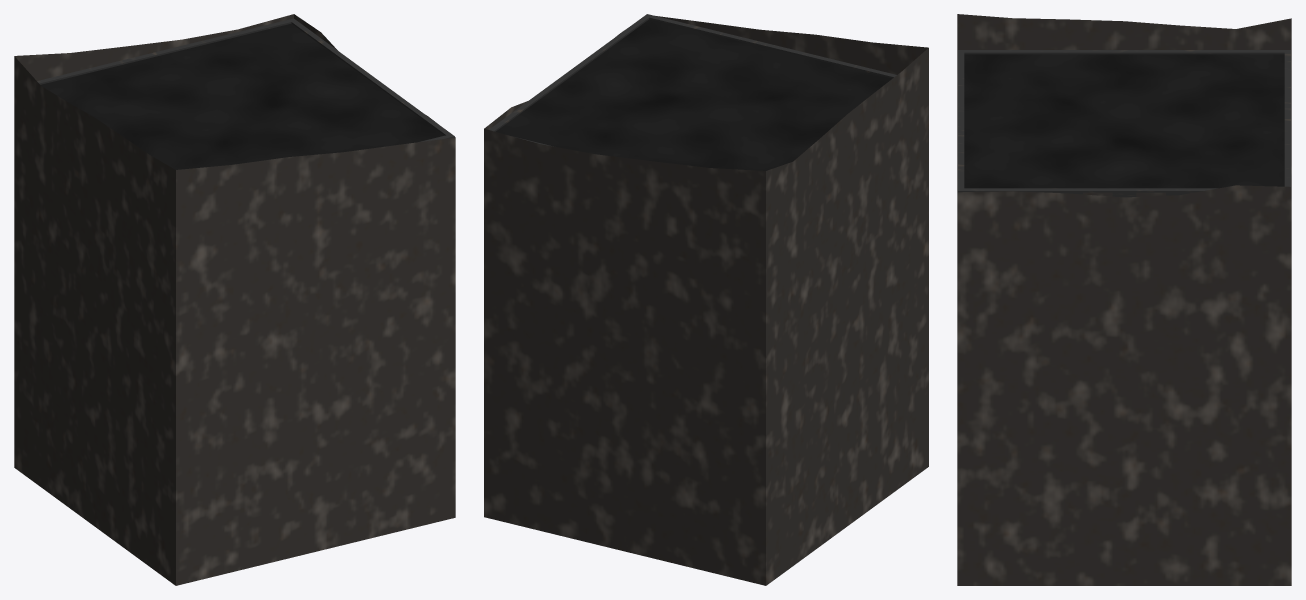
The model's file is SpawnComponents.glb.
3 views of the same model, side by side, from view 1: azimuth 30°, elevation 25°; view 2: azimuth 150°, elevation 25°; view 3: azimuth 270°, elevation 25° (orthographic). The views are drawn at different scales.
Parts seen in each view (by area): view 1: Cube.003, Cube.005, Cube.004; view 2: Cube.003, Cube.005, Cube.004; view 3: Cube.003, Cube.005, Cube.004.
Part boxes in pixels (left/top/right/bottom): Cube.003: left=14, top=14, right=455, bottom=585; Cube.005: left=40, top=23, right=444, bottom=169; Cube.004: left=37, top=18, right=454, bottom=142; Cube.003: left=484, top=16, right=928, bottom=585; Cube.005: left=496, top=19, right=892, bottom=170; Cube.004: left=489, top=14, right=896, bottom=146; Cube.003: left=957, top=14, right=1291, bottom=585; Cube.005: left=964, top=54, right=1284, bottom=188; Cube.004: left=958, top=50, right=1290, bottom=197.
Bounding box in the file's own units: 27.78 × 39.46 × 27.78.
3 materials, 3 textured.
